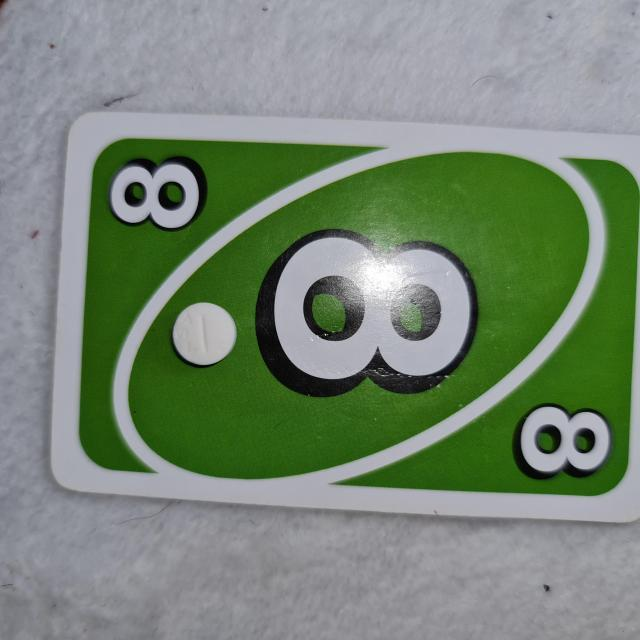pill: (170, 300, 240, 370)
